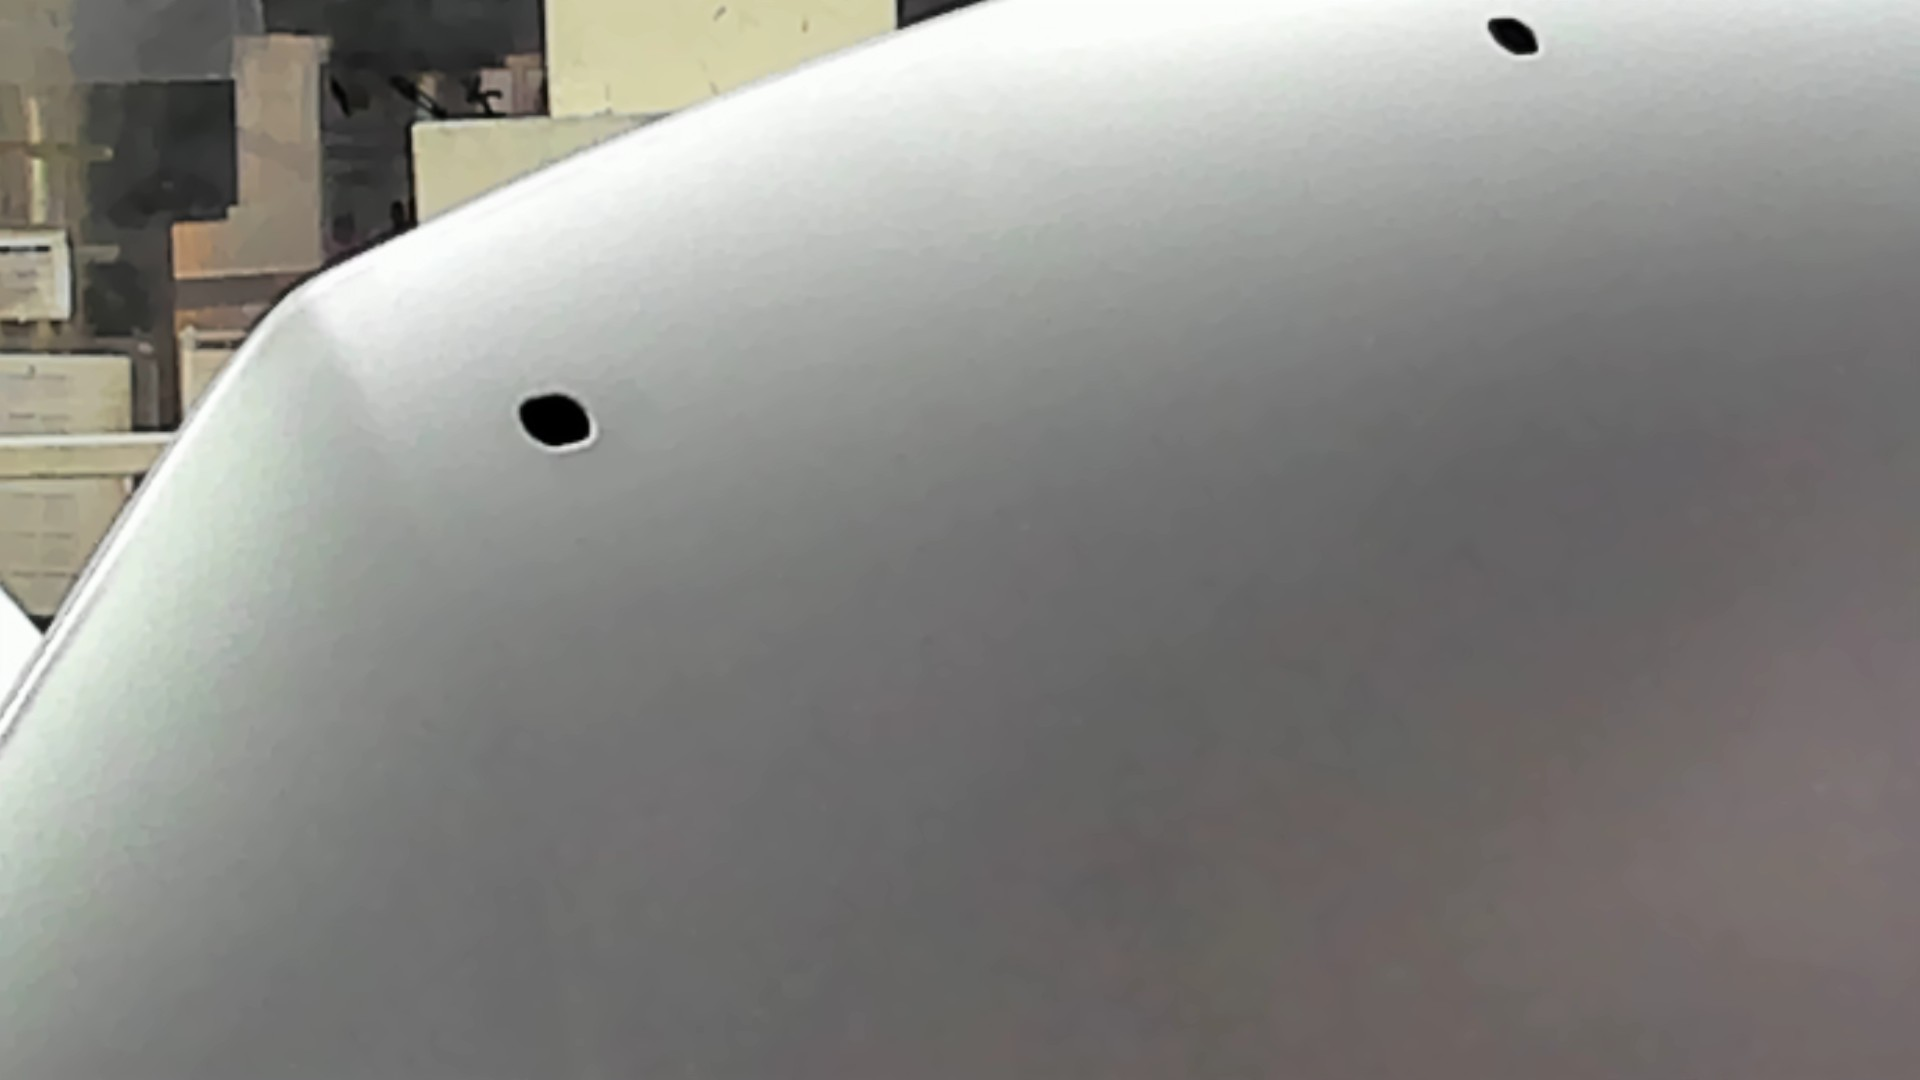amorfo: (512, 386, 601, 456), (1480, 11, 1548, 63)
